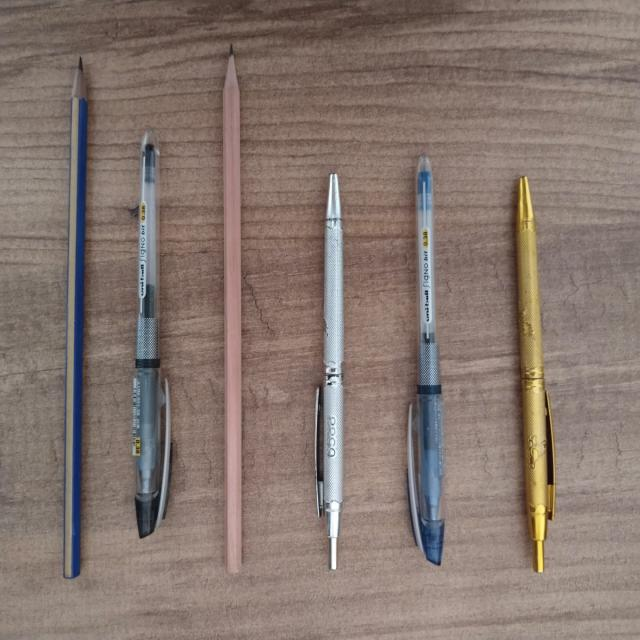pen: (130, 127, 172, 538), (407, 160, 446, 565)
pencil: (221, 50, 245, 564), (64, 55, 86, 543)
signature pen: (516, 176, 558, 572), (314, 188, 347, 558)
